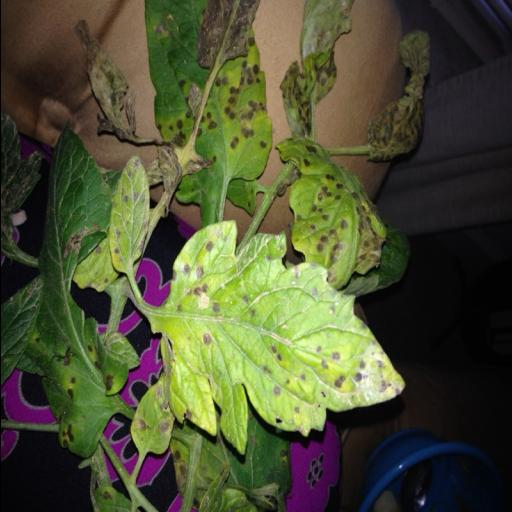Septoria: (154, 225, 412, 453), (32, 126, 126, 484), (276, 122, 386, 304), (140, 0, 266, 150), (190, 42, 272, 192), (278, 0, 358, 142), (108, 128, 158, 284), (131, 374, 177, 474)
